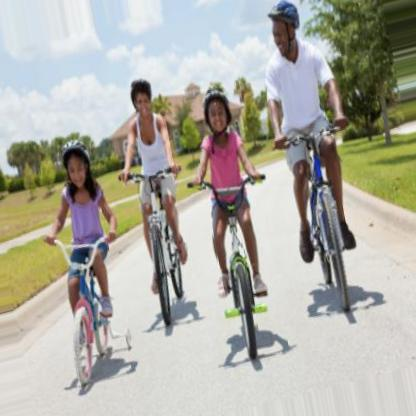with helmet: (266, 1, 299, 57), (200, 88, 233, 136), (60, 140, 93, 186), (130, 79, 151, 120)
